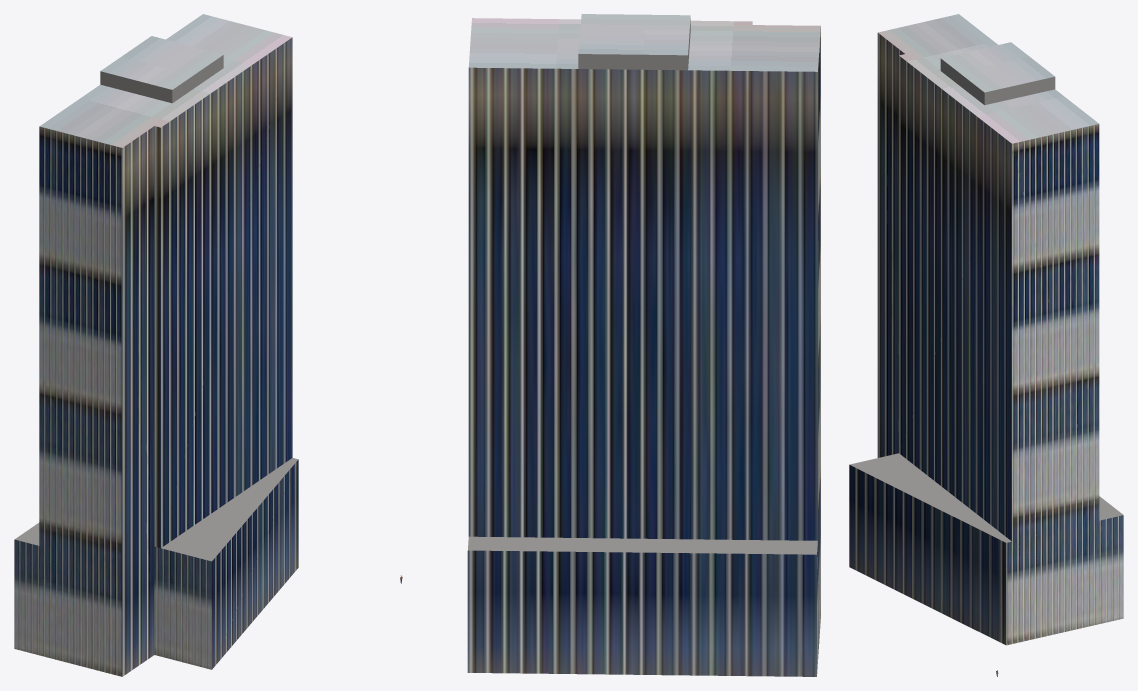
File: 200-Water-Street.fbx
The picture shows the model from 3 angles, left to right: view 1: azimuth 30°, elevation 25°; view 2: azimuth 150°, elevation 25°; view 3: azimuth 270°, elevation 25°; orthographic projection. The views are drawn at different scales.
Visible parts, largest first — view 1: Model; view 2: Model; view 3: Model.
Boxes of the visible parts, x1=… form: Model: x1=14, y1=14, x2=298, y2=676; Model: x1=467, y1=14, x2=820, y2=676; Model: x1=849, y1=14, x2=1123, y2=645.
Size of what is drawn, in the model's own units: 94.27 by 134 by 64.94.
